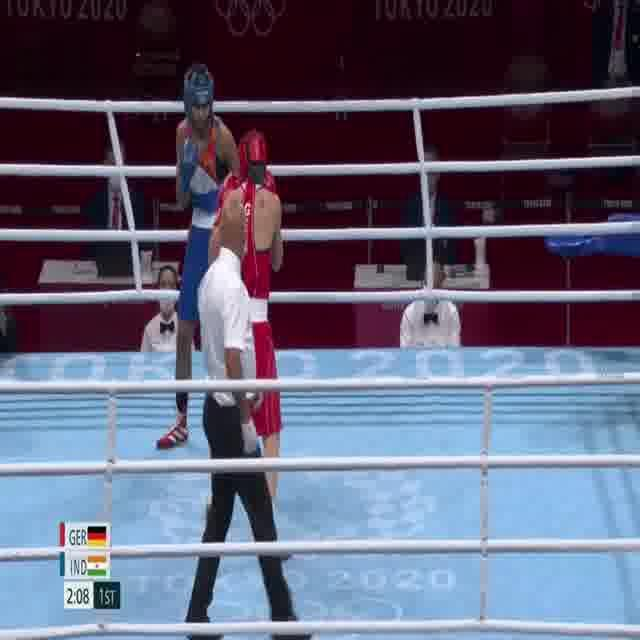blue-player: (152, 63, 248, 463)
red-player: (212, 129, 296, 569)
referee: (184, 194, 312, 640)
